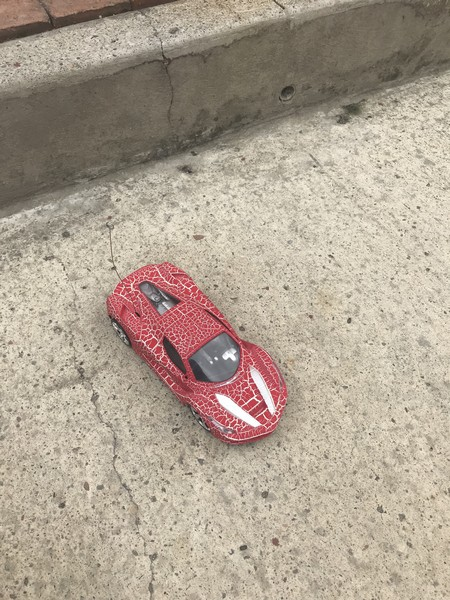RC: (104, 261, 291, 447)
